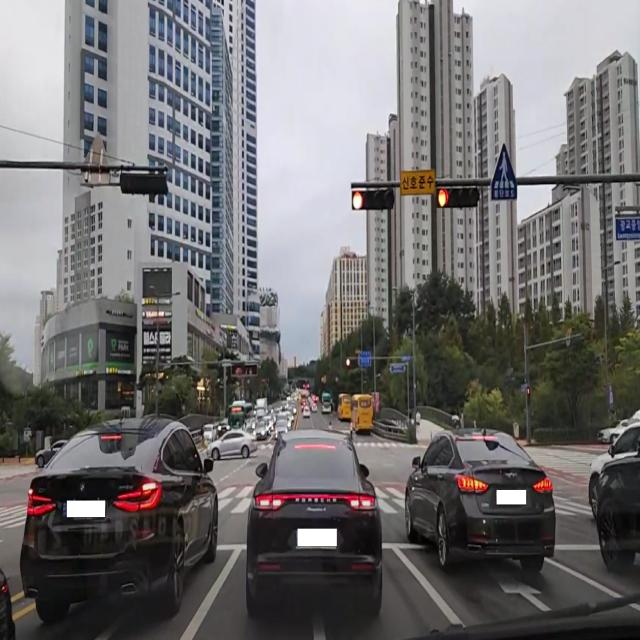Red Light: (436, 186, 449, 208), (352, 189, 364, 209)
